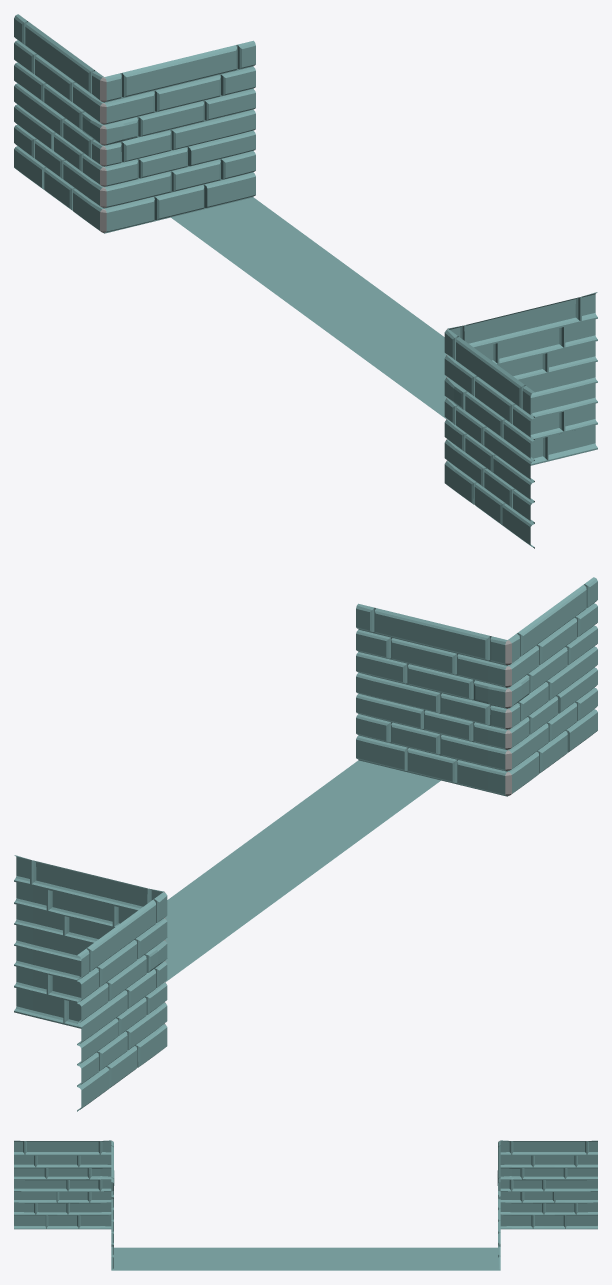
Rendered from sm_tile_waterfalltile_topcorner.fbx.
3 views of the same model, one above another, from view 1: azimuth 30°, elevation 25°; view 2: azimuth 150°, elevation 25°; view 3: azimuth 270°, elevation 25° (orthographic). The views are drawn at different scales.
Visible parts, largest first — view 1: WitchGameWaterfallTiles_2_27_20:Waterfall_Drop; view 2: WitchGameWaterfallTiles_2_27_20:Waterfall_Drop; view 3: WitchGameWaterfallTiles_2_27_20:Waterfall_Drop.
Part boxes in pixels (bbox=[...]): WitchGameWaterfallTiles_2_27_20:Waterfall_Drop: bbox=[14, 14, 597, 548]; WitchGameWaterfallTiles_2_27_20:Waterfall_Drop: bbox=[14, 577, 597, 1111]; WitchGameWaterfallTiles_2_27_20:Waterfall_Drop: bbox=[14, 1140, 597, 1270].
Bounding box in the file's own units: 2.06 × 2.01 × 12.
